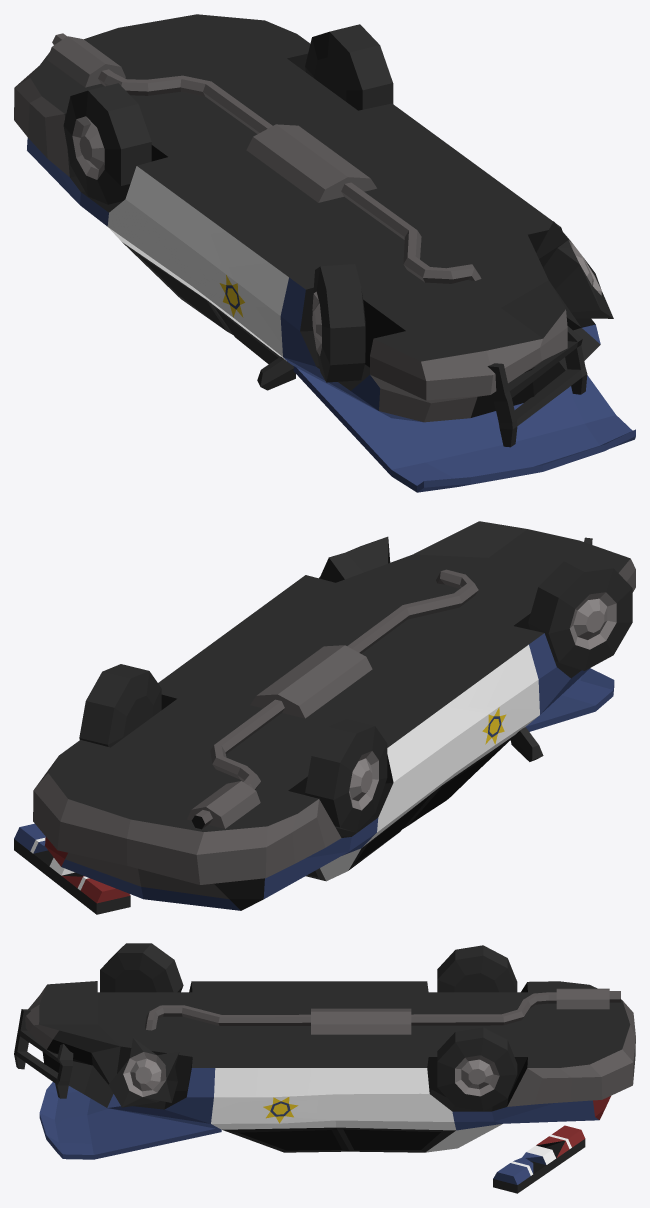
The model's file is apocalypse_car-police-broken-apocalypse.fbx.
The picture shows the model from 3 angles, top to bottom: view 1: azimuth 30°, elevation 25°; view 2: azimuth 150°, elevation 25°; view 3: azimuth 270°, elevation 25°; orthographic projection. The views are drawn at different scales.
Parts seen in each view (by area): view 1: car_police_broken_apocalypse_car_police_broken_apocalypse_ba, car_police_broken_apocalypse_car_police_broken_apocalypse_wh; view 2: car_police_broken_apocalypse_car_police_broken_apocalypse_ba, car_police_broken_apocalypse_car_police_broken_apocalypse_wh; view 3: car_police_broken_apocalypse_car_police_broken_apocalypse_ba, car_police_broken_apocalypse_car_police_broken_apocalypse_wh.
Part boxes in pixels (box(x1,y1,x2,y2)): car_police_broken_apocalypse_car_police_broken_apocalypse_ba: box(14, 14, 635, 492); car_police_broken_apocalypse_car_police_broken_apocalypse_wh: box(63, 24, 613, 382); car_police_broken_apocalypse_car_police_broken_apocalypse_ba: box(14, 521, 635, 914); car_police_broken_apocalypse_car_police_broken_apocalypse_wh: box(79, 536, 632, 832); car_police_broken_apocalypse_car_police_broken_apocalypse_ba: box(14, 981, 635, 1193); car_police_broken_apocalypse_car_police_broken_apocalypse_wh: box(100, 943, 517, 1111).
Size of the model in its own units: 95.24 by 47.22 by 200.
